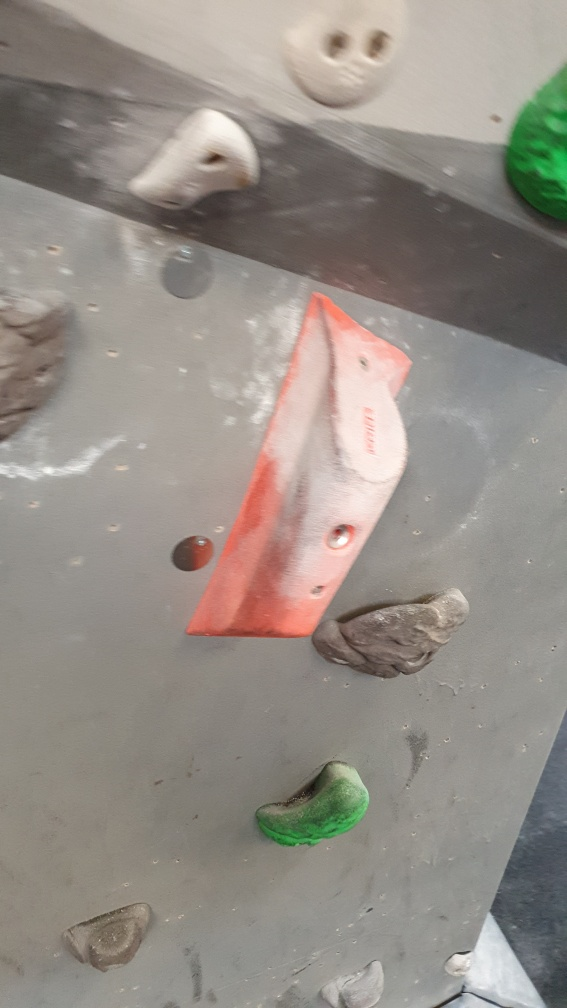Hand Start: (159, 244, 215, 302), (170, 532, 215, 574)
Jug: (313, 576, 474, 682), (253, 755, 374, 852)
Pinch: (176, 285, 419, 646)
